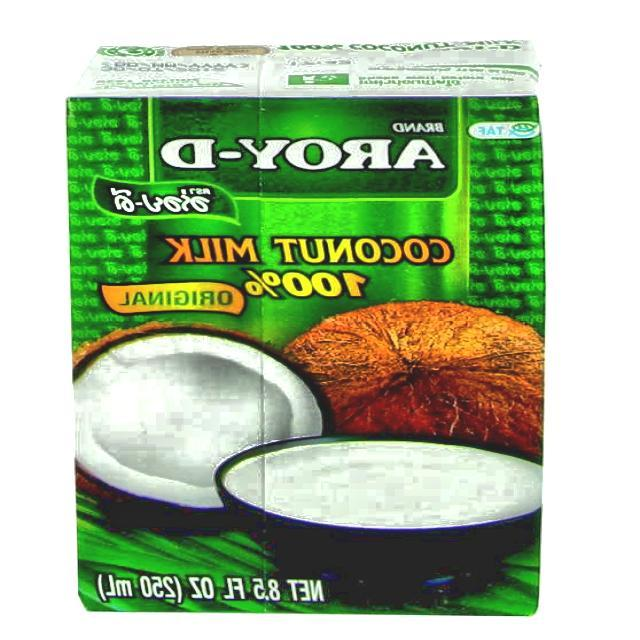cardboard: (68, 38, 548, 614)
